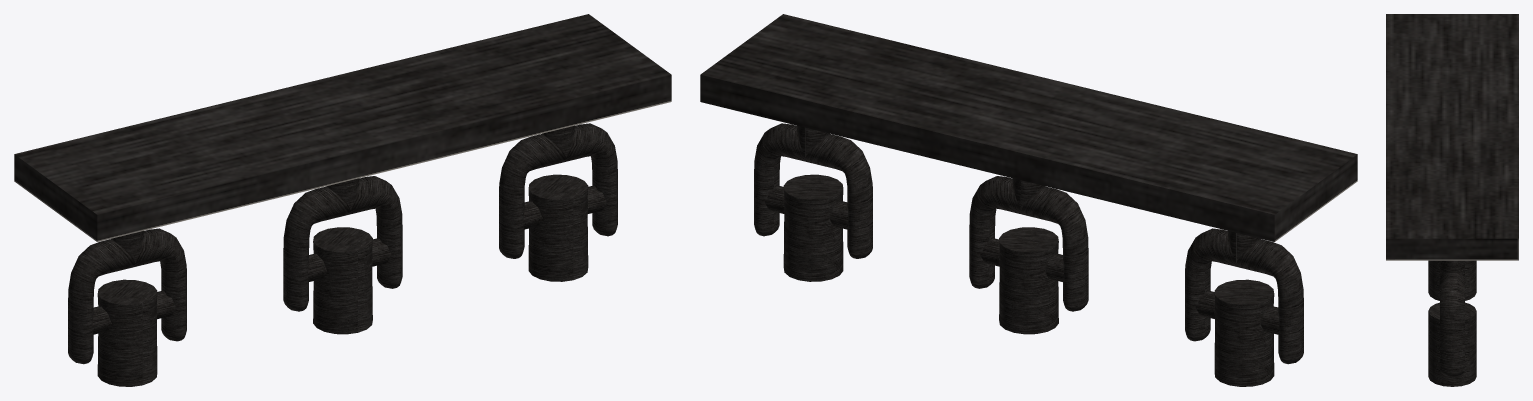
The model's file is spotlightSeries.fbx.
3 renders of one model, left to right at view 1: azimuth 30°, elevation 25°; view 2: azimuth 150°, elevation 25°; view 3: azimuth 270°, elevation 25°, orthographic. The views are drawn at different scales.
Visible parts, largest first — view 1: spotlightSeries, spotlightBody (×3), spotlightYaw2, spotlightYaw3, spotlightYaw1; view 2: spotlightSeries, spotlightBody (×3), spotlightYaw2, spotlightYaw3, spotlightYaw1; view 3: spotlightSeries, spotlightBody (×2), spotlightYaw3.
Part boxes in pixels (x1,y1,x2,y2): spotlightSeries: (14, 14, 671, 241); spotlightBody (×3): (92, 174, 606, 386); spotlightYaw2: (283, 176, 402, 311); spotlightYaw3: (499, 123, 617, 258); spotlightYaw1: (68, 228, 186, 364); spotlightSeries: (700, 14, 1357, 241); spotlightBody (×3): (765, 174, 1279, 386); spotlightYaw2: (969, 176, 1088, 311); spotlightYaw3: (754, 123, 872, 258); spotlightYaw1: (1185, 228, 1303, 364); spotlightSeries: (1386, 14, 1518, 260); spotlightBody (×2): (1428, 260, 1476, 386); spotlightYaw3: (1440, 260, 1464, 376).
Bounding box in the file's own units: 88 × 30.36 × 22.
Materials: 2 (1 with a texture image).
